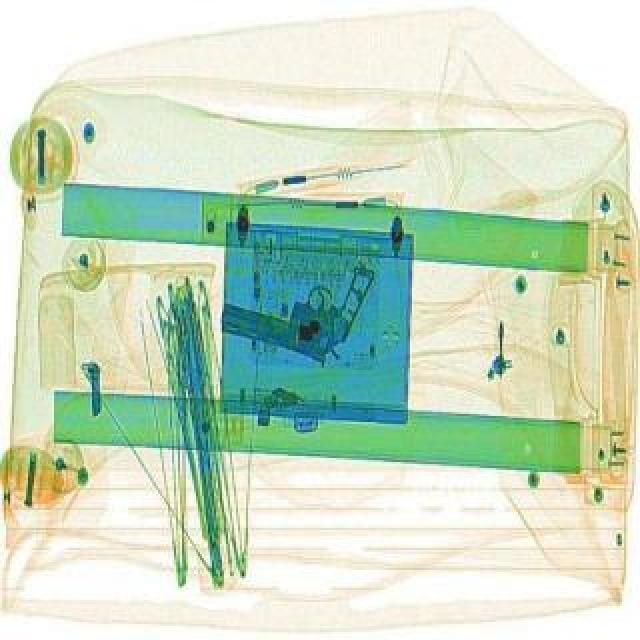gun: (214, 232, 374, 370)
